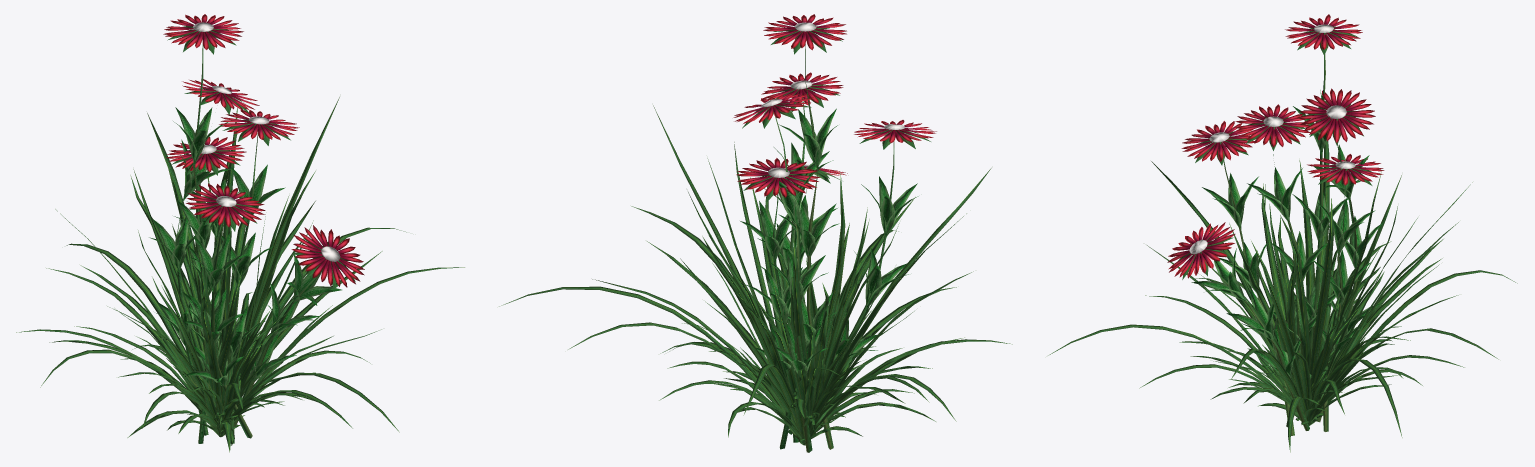
The model's file is flower2.glb.
3 views of the same model, side by side, from view 1: azimuth 30°, elevation 25°; view 2: azimuth 150°, elevation 25°; view 3: azimuth 270°, elevation 25° (orthographic). The views are drawn at different scales.
Visible parts, largest first — view 1: Aster_red_Grass_0, Aster_red_Leaf_0, Aster_red_Petal_0, Aster_red_Stem_0, Aster_red_Stigma_0; view 2: Aster_red_Grass_0, Aster_red_Leaf_0, Aster_red_Petal_0, Aster_red_Stem_0, Aster_red_Stigma_0; view 3: Aster_red_Grass_0, Aster_red_Petal_0, Aster_red_Leaf_0, Aster_red_Stem_0, Aster_red_Stigma_0.
Part boxes in pixels (left/top/right/bottom): Aster_red_Grass_0: left=16, top=97, right=464, bottom=452; Aster_red_Leaf_0: left=149, top=107, right=341, bottom=385; Aster_red_Petal_0: left=163, top=14, right=364, bottom=287; Aster_red_Stem_0: left=167, top=26, right=355, bottom=443; Aster_red_Stigma_0: left=193, top=22, right=340, bottom=261; Aster_red_Grass_0: left=499, top=105, right=1012, bottom=445; Aster_red_Leaf_0: left=740, top=108, right=918, bottom=381; Aster_red_Petal_0: left=733, top=14, right=936, bottom=197; Aster_red_Stem_0: left=742, top=26, right=930, bottom=452; Aster_red_Stigma_0: left=761, top=22, right=905, bottom=177; Aster_red_Grass_0: left=1048, top=90, right=1517, bottom=452; Aster_red_Petal_0: left=1167, top=14, right=1384, bottom=278; Aster_red_Leaf_0: left=1191, top=95, right=1383, bottom=378; Aster_red_Stem_0: left=1178, top=26, right=1372, bottom=435; Aster_red_Stigma_0: left=1189, top=24, right=1355, bottom=254.
Size of the model in its own units: 0.9996 by 0.9512 by 1.04.
5 materials, 5 textured.
